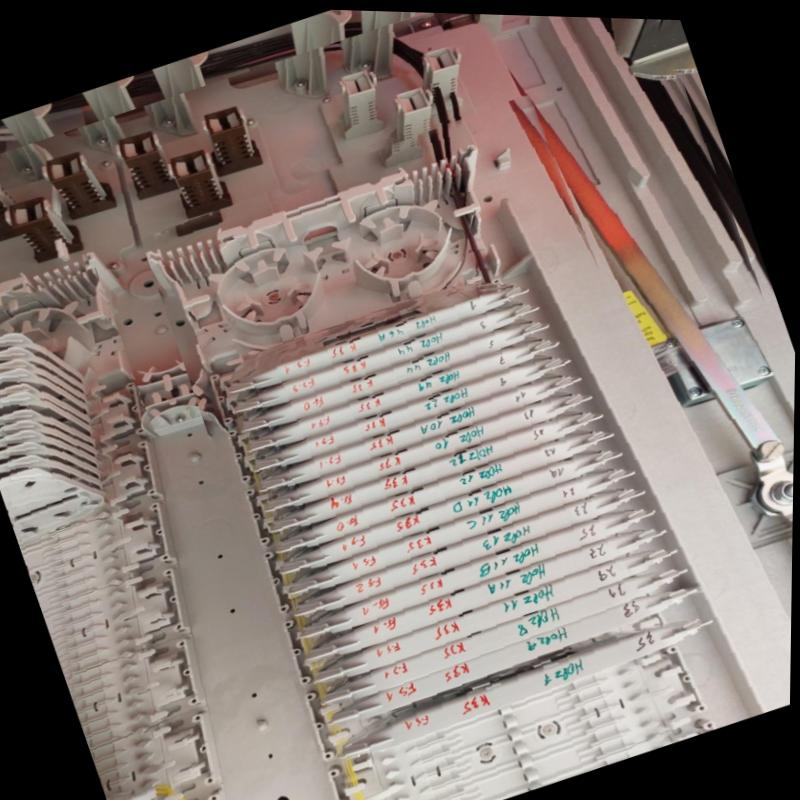NT-Gehause: (0, 0, 800, 800)
Spleiskassetten: (140, 118, 778, 800), (0, 270, 223, 800)
